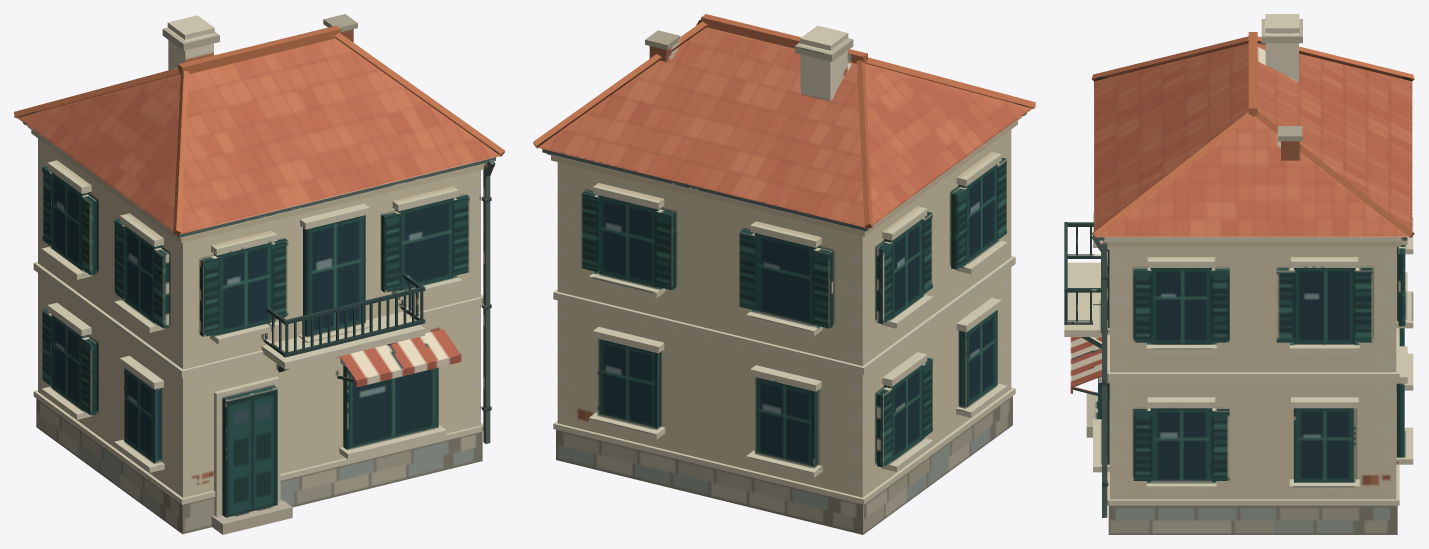
The model's file is SM_QD_House_RedRoof_A.fbx.
3 renders of one model, left to right at view 1: azimuth 30°, elevation 25°; view 2: azimuth 150°, elevation 25°; view 3: azimuth 270°, elevation 25°, orthographic. The views are drawn at different scales.
Visible parts, largest first — view 1: SM_QD_House_RedRoof_A; view 2: SM_QD_House_RedRoof_A; view 3: SM_QD_House_RedRoof_A.
Boxes of the visible parts, bbox=[...] form: SM_QD_House_RedRoof_A: bbox=[14, 14, 504, 534]; SM_QD_House_RedRoof_A: bbox=[533, 14, 1035, 534]; SM_QD_House_RedRoof_A: bbox=[1064, 14, 1414, 534].
Size of what is drawn, in the model's own units: 7.12 by 6.61 by 8.65.
Materials: 1 (1 with a texture image).
